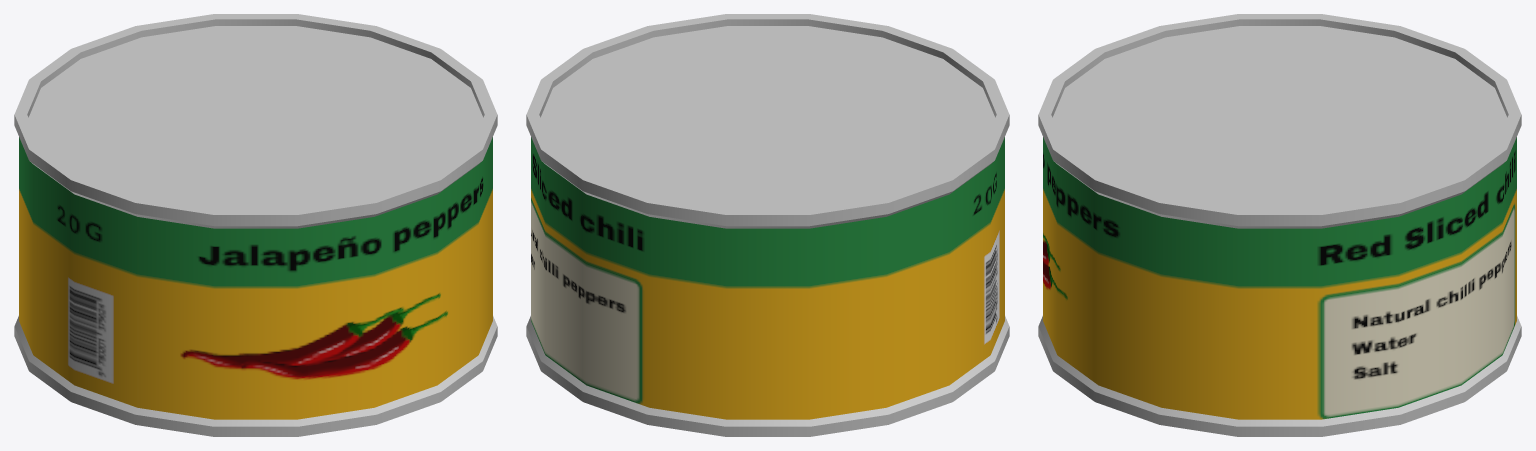
The model's file is Tin 4.fbx.
3 renders of one model, left to right at view 1: azimuth 30°, elevation 25°; view 2: azimuth 150°, elevation 25°; view 3: azimuth 270°, elevation 25°, orthographic.
Parts seen in each view (by area): view 1: tin 4; view 2: tin 4; view 3: tin 4.
Boxes of the visible parts, x1=… form: tin 4: x1=14, y1=14, x2=497, y2=436; tin 4: x1=526, y1=14, x2=1009, y2=436; tin 4: x1=1038, y1=14, x2=1521, y2=436.
Size of the model in its own units: 8.43 by 4.34 by 8.56.
